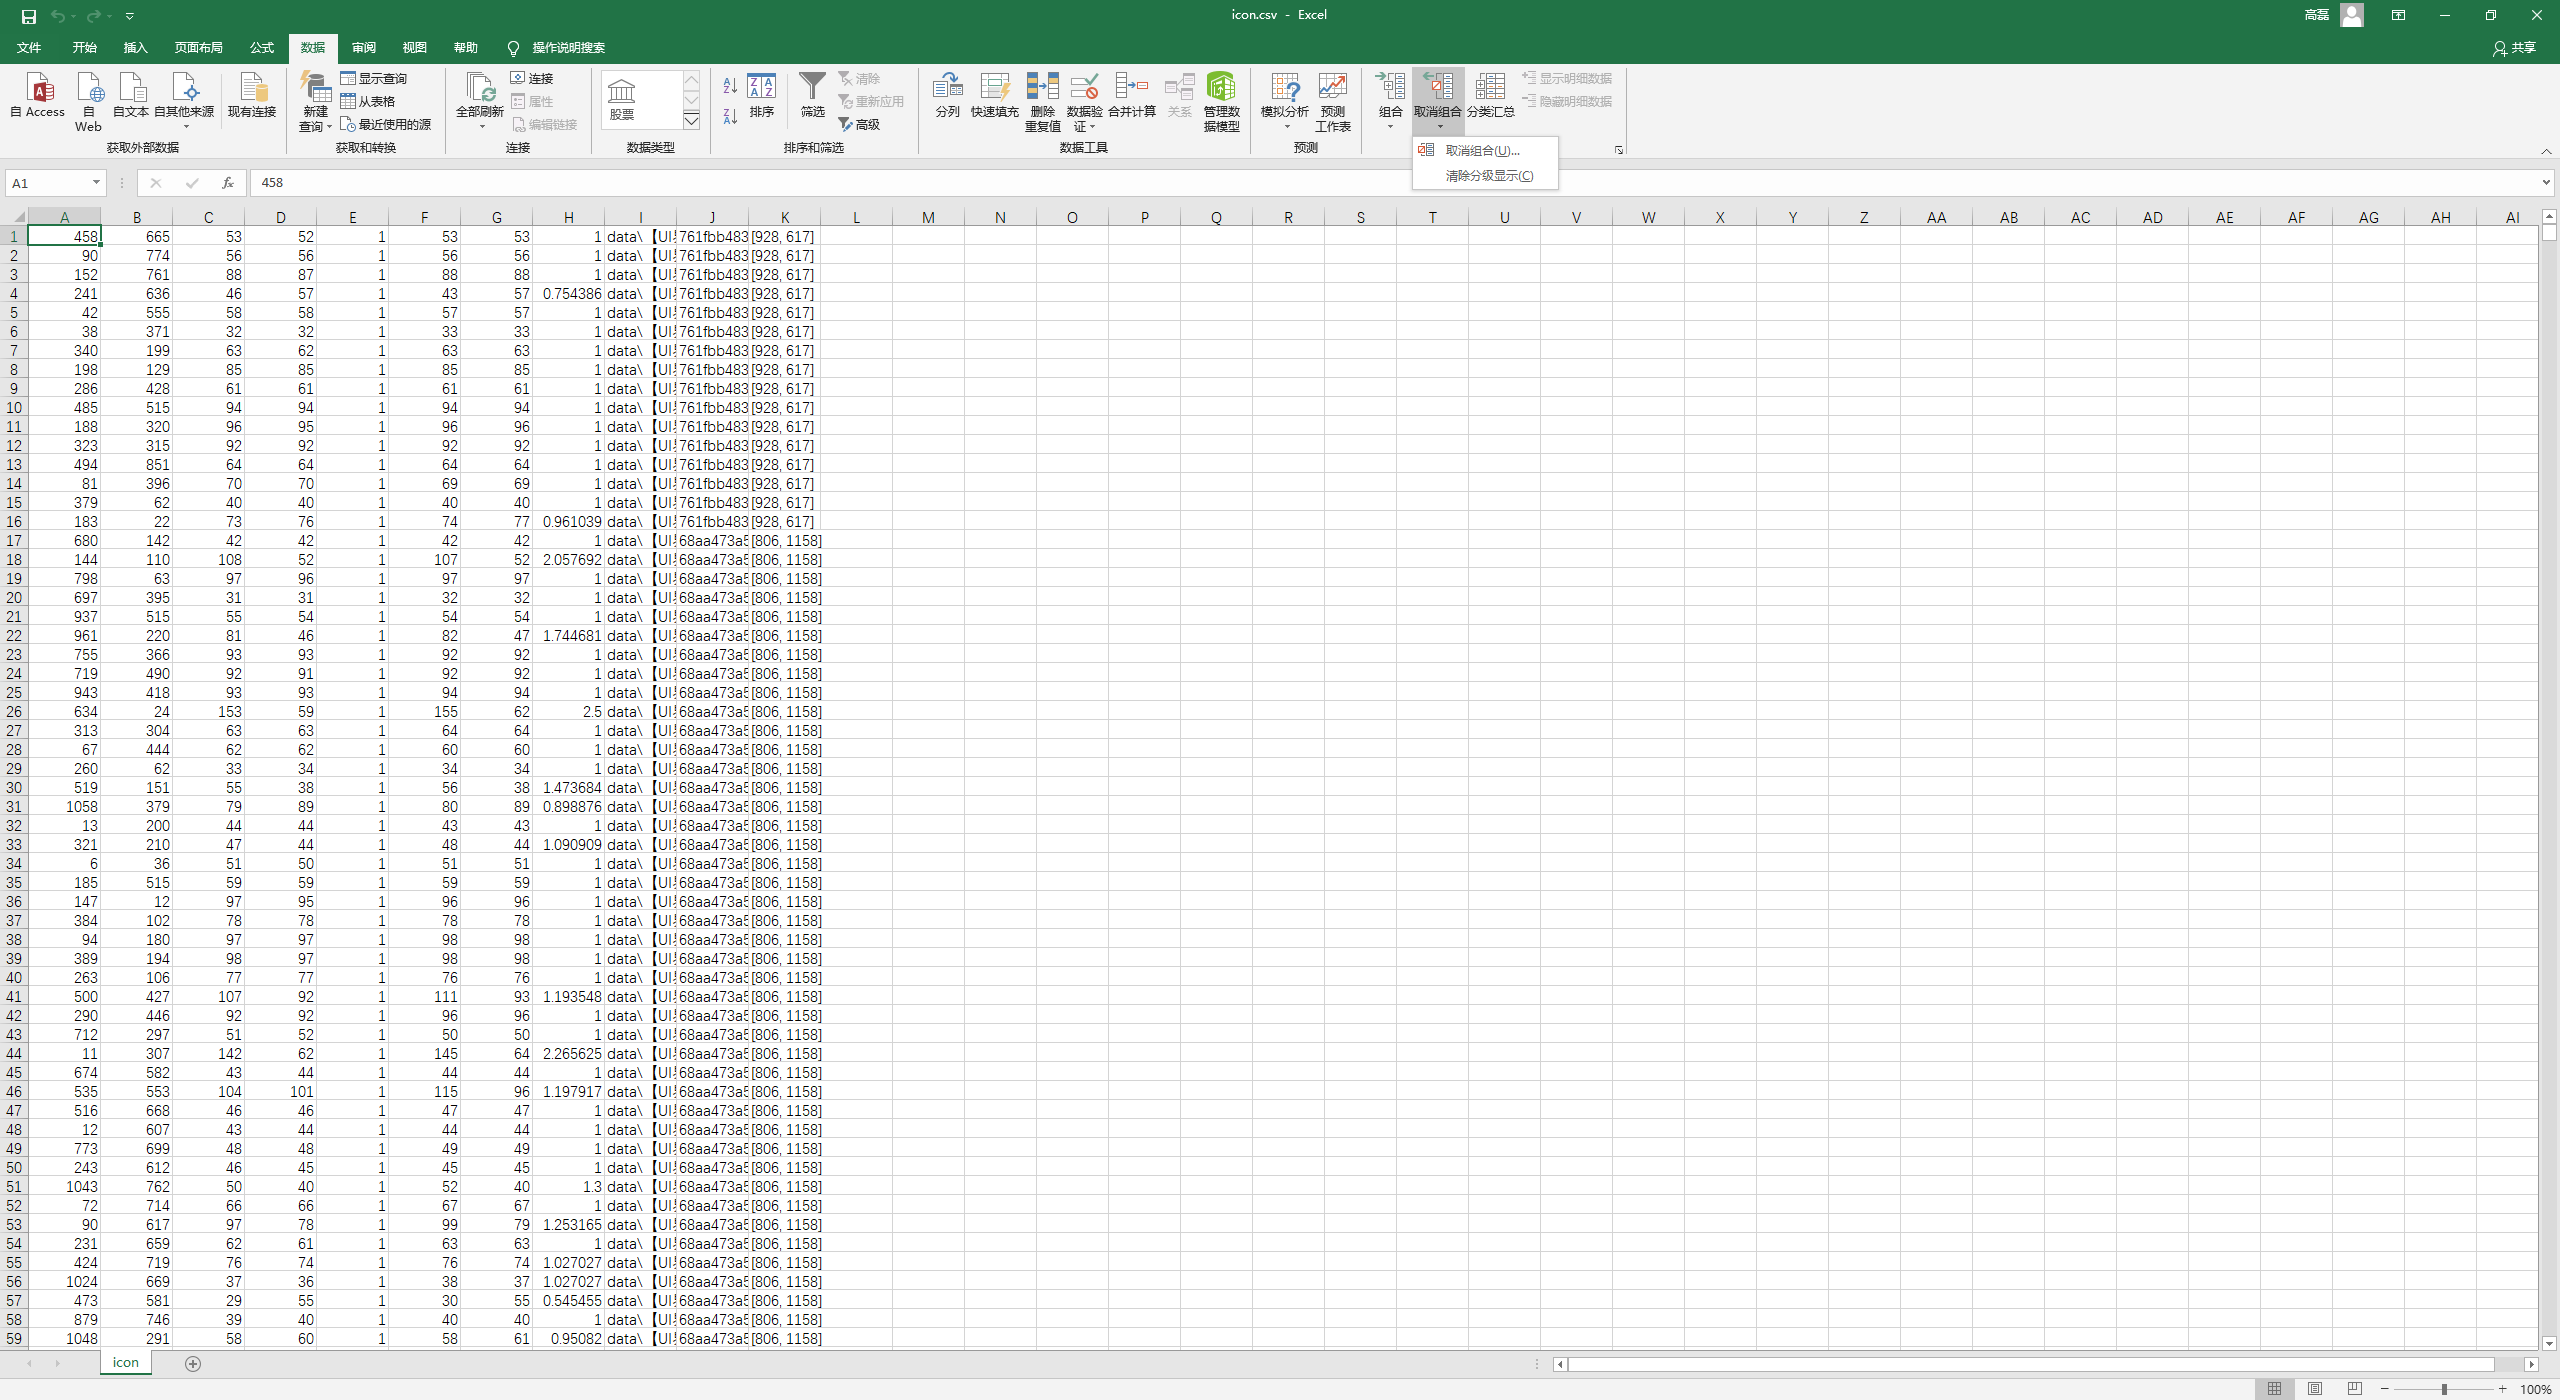character: (1221, 3, 1331, 22), (1439, 141, 1531, 159), (1446, 167, 1534, 184), (1539, 93, 1617, 110), (531, 40, 603, 57), (100, 141, 183, 155), (1541, 69, 1612, 84), (1026, 105, 1064, 133), (1203, 105, 1243, 131), (1314, 105, 1353, 129), (359, 117, 433, 129), (1053, 140, 1114, 153), (777, 141, 845, 153), (857, 95, 908, 110), (1469, 103, 1514, 121), (10, 107, 64, 121), (333, 141, 402, 152), (1410, 103, 1462, 117), (364, 71, 409, 86), (1260, 102, 1310, 116), (293, 107, 322, 129), (259, 172, 293, 191), (228, 105, 281, 117), (176, 40, 222, 53), (533, 117, 579, 131), (155, 105, 214, 116), (971, 107, 1021, 119), (1108, 105, 1158, 117), (621, 141, 676, 152), (453, 107, 507, 117), (14, 40, 45, 57), (110, 1355, 145, 1371), (2519, 1381, 2551, 1397), (2300, 3, 2329, 21), (76, 110, 102, 129), (71, 40, 102, 55), (362, 95, 396, 109), (748, 102, 776, 119), (607, 107, 636, 122), (859, 71, 888, 86), (122, 40, 148, 57), (248, 40, 276, 55), (348, 40, 376, 55), (402, 40, 433, 53), (853, 117, 884, 131), (1291, 140, 1322, 153), (2513, 41, 2544, 55), (528, 69, 553, 84), (936, 102, 958, 119), (114, 109, 152, 117), (298, 41, 324, 53), (10, 178, 36, 190), (796, 105, 826, 116), (453, 41, 478, 53), (529, 95, 553, 107), (1377, 105, 1402, 117), (503, 145, 533, 153), (1069, 109, 1103, 116), (1169, 107, 1191, 116)
icon: (1022, 67, 1064, 102), (297, 69, 334, 105), (24, 67, 59, 103), (72, 69, 109, 103), (1203, 69, 1239, 103), (1110, 71, 1152, 100), (236, 69, 271, 103), (464, 69, 498, 103), (116, 71, 152, 103), (169, 69, 202, 103), (979, 69, 1012, 103), (795, 69, 829, 102), (1269, 71, 1303, 103), (1374, 71, 1408, 102), (1422, 71, 1457, 102), (1472, 71, 1508, 98), (931, 69, 964, 98), (1164, 71, 1196, 100), (1315, 71, 1350, 98), (745, 71, 777, 98), (607, 76, 636, 105), (1069, 71, 1100, 98), (2338, 3, 2363, 28), (2258, 1378, 2288, 1398), (2534, 140, 2558, 164), (181, 1352, 205, 1376), (215, 172, 240, 195), (179, 172, 203, 195), (2300, 1379, 2327, 1398), (2339, 1379, 2367, 1398), (17, 5, 38, 28), (2538, 174, 2558, 197), (2434, 3, 2455, 24), (2526, 3, 2546, 24), (147, 172, 165, 193), (719, 105, 740, 124), (1415, 140, 1436, 159), (2481, 5, 2501, 24), (2388, 5, 2408, 24), (14, 1359, 38, 1374), (338, 114, 357, 133), (338, 91, 357, 110), (338, 67, 357, 86), (509, 91, 528, 110), (721, 76, 740, 95), (681, 71, 700, 90), (1550, 1355, 1570, 1372), (90, 171, 103, 195), (503, 40, 522, 57), (1520, 67, 1538, 86), (2489, 40, 2508, 57), (681, 117, 707, 129), (48, 7, 66, 24), (510, 116, 528, 133), (509, 69, 526, 86), (836, 91, 853, 109), (836, 69, 853, 86), (84, 9, 102, 24), (838, 116, 853, 133), (1520, 91, 1538, 107), (2541, 1334, 2557, 1352), (2524, 1355, 2539, 1372), (2376, 1379, 2391, 1397), (684, 93, 700, 109), (2438, 1381, 2453, 1397), (53, 1355, 67, 1372), (121, 9, 136, 22), (179, 117, 193, 131), (476, 119, 490, 133), (1281, 117, 1295, 131), (2543, 209, 2557, 222), (2496, 1381, 2508, 1397), (1438, 119, 1450, 133), (1614, 143, 1626, 155), (1384, 119, 1396, 131), (67, 9, 78, 22), (105, 9, 116, 22), (1088, 119, 1098, 131), (116, 176, 124, 190), (326, 119, 334, 131)
